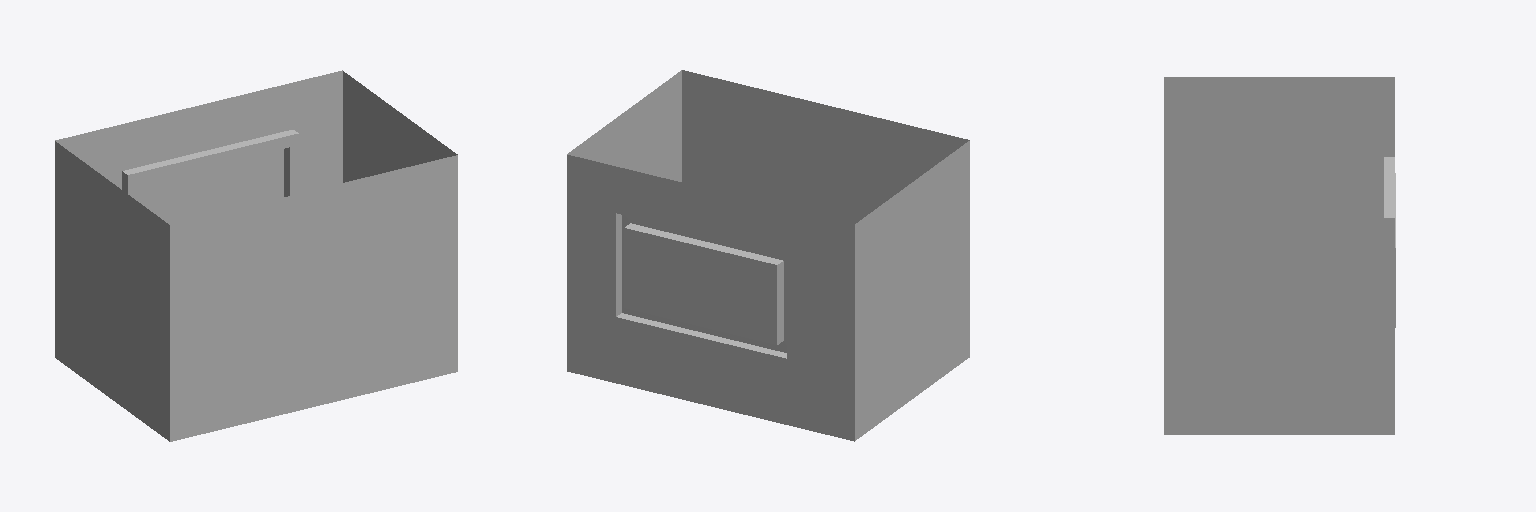
The model's file is light_map_box.obj.
3 views of the same model, side by side, from view 1: azimuth 30°, elevation 25°; view 2: azimuth 150°, elevation 25°; view 3: azimuth 270°, elevation 25° (orthographic).
Visible parts, largest first — view 1: fiance_box_wall_based_Cube.023; view 2: fiance_box_wall_based_Cube.023; view 3: fiance_box_wall_based_Cube.023.
Part boxes in pixels (x1,y1,x2,y2): fiance_box_wall_based_Cube.023: (55,70,457,441); fiance_box_wall_based_Cube.023: (567,70,969,441); fiance_box_wall_based_Cube.023: (1164,77,1395,434).
Bounding box in the file's own units: 3.98 × 2.86 × 2.78.